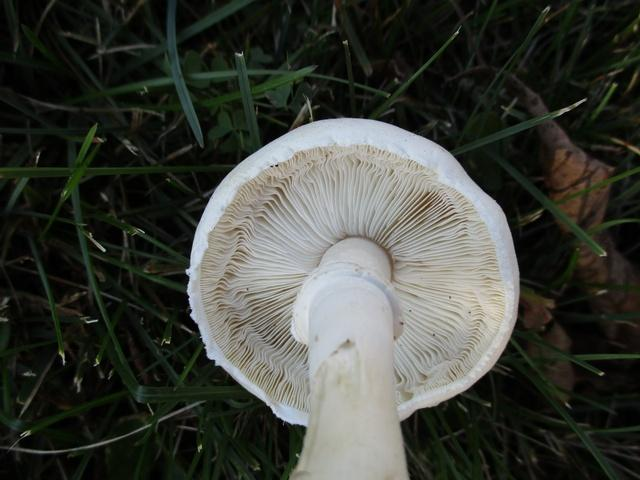poisonous_mushroom: (178, 104, 525, 480)
